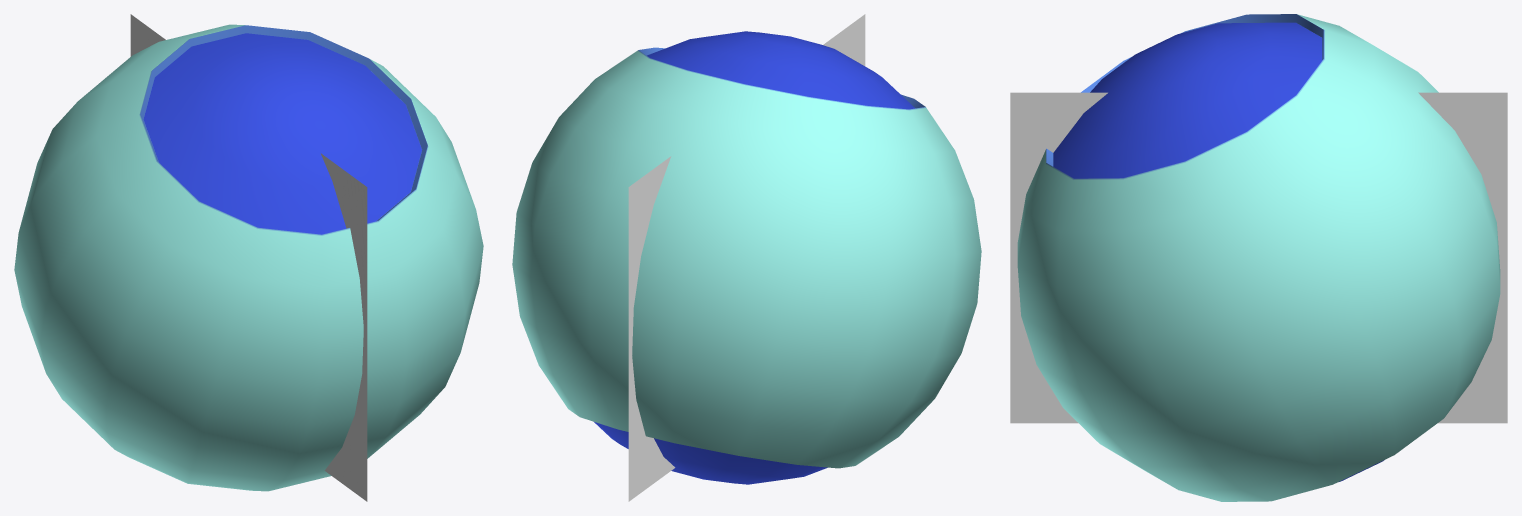
The model's file is Env_PowerUp_FuzShield.fbx.
The picture shows the model from 3 angles, left to right: view 1: azimuth 30°, elevation 25°; view 2: azimuth 150°, elevation 25°; view 3: azimuth 270°, elevation 25°; orthographic projection. The views are drawn at different scales.
Visible parts, largest first — view 1: polySurface1; view 2: polySurface1; view 3: polySurface1.
Boxes of the visible parts, bbox=[...] form: polySurface1: bbox=[14, 14, 483, 501]; polySurface1: bbox=[512, 14, 981, 501]; polySurface1: bbox=[1010, 14, 1507, 501].
Size of the model in its own units: 4.86 by 4.66 by 4.89.
